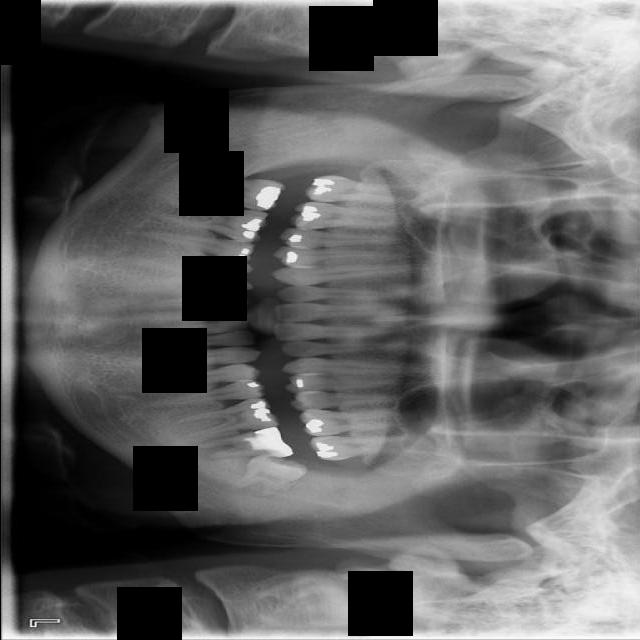52: (237, 171, 287, 219), (225, 202, 272, 250), (234, 390, 280, 439), (253, 421, 293, 465), (288, 200, 341, 231), (297, 403, 339, 442), (305, 175, 356, 202), (308, 435, 348, 463), (212, 257, 253, 284), (218, 236, 255, 265), (282, 372, 324, 396), (270, 244, 310, 269), (225, 378, 265, 400), (278, 227, 317, 249)
73: (97, 590, 113, 599)
BioHorizons Implant: (306, 435, 414, 462)
Biomet 3i Implant: (228, 445, 309, 508)
Blue Sky Bio Implant: (196, 425, 293, 469)
Caries: (305, 174, 424, 206)
Implant: (178, 172, 286, 213)
